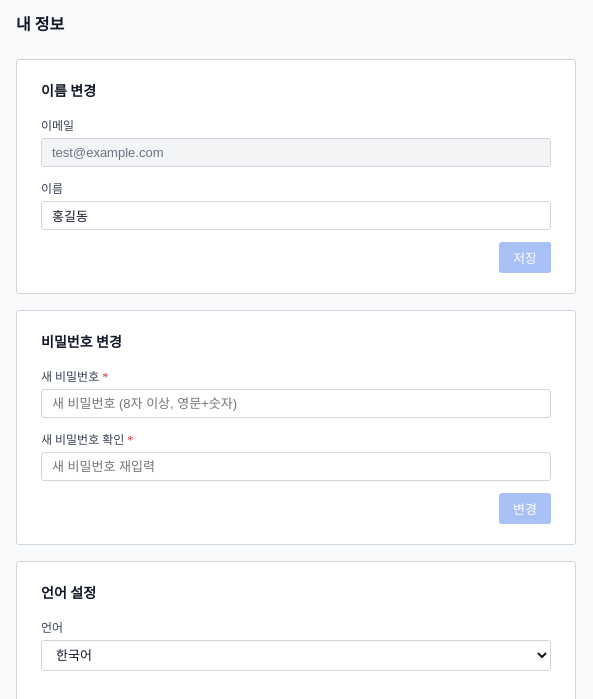
Scenario: ProfilePage — 이름 변경 › 이름 변경 시 저장 버튼이 활성화된다
Replace the text in the field labelled "이름" with "김철수". click: [296, 216]
box: [41,201,551,230]
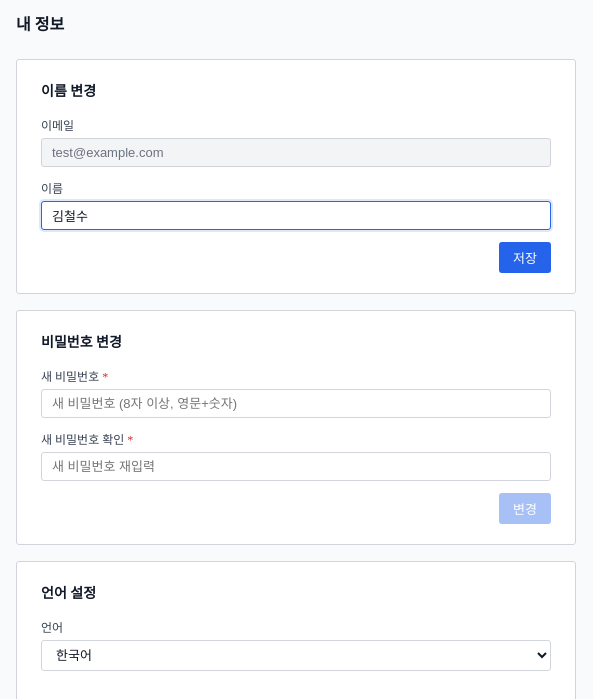
Expected: the button "저장" is enabled, [499,242,551,273]
